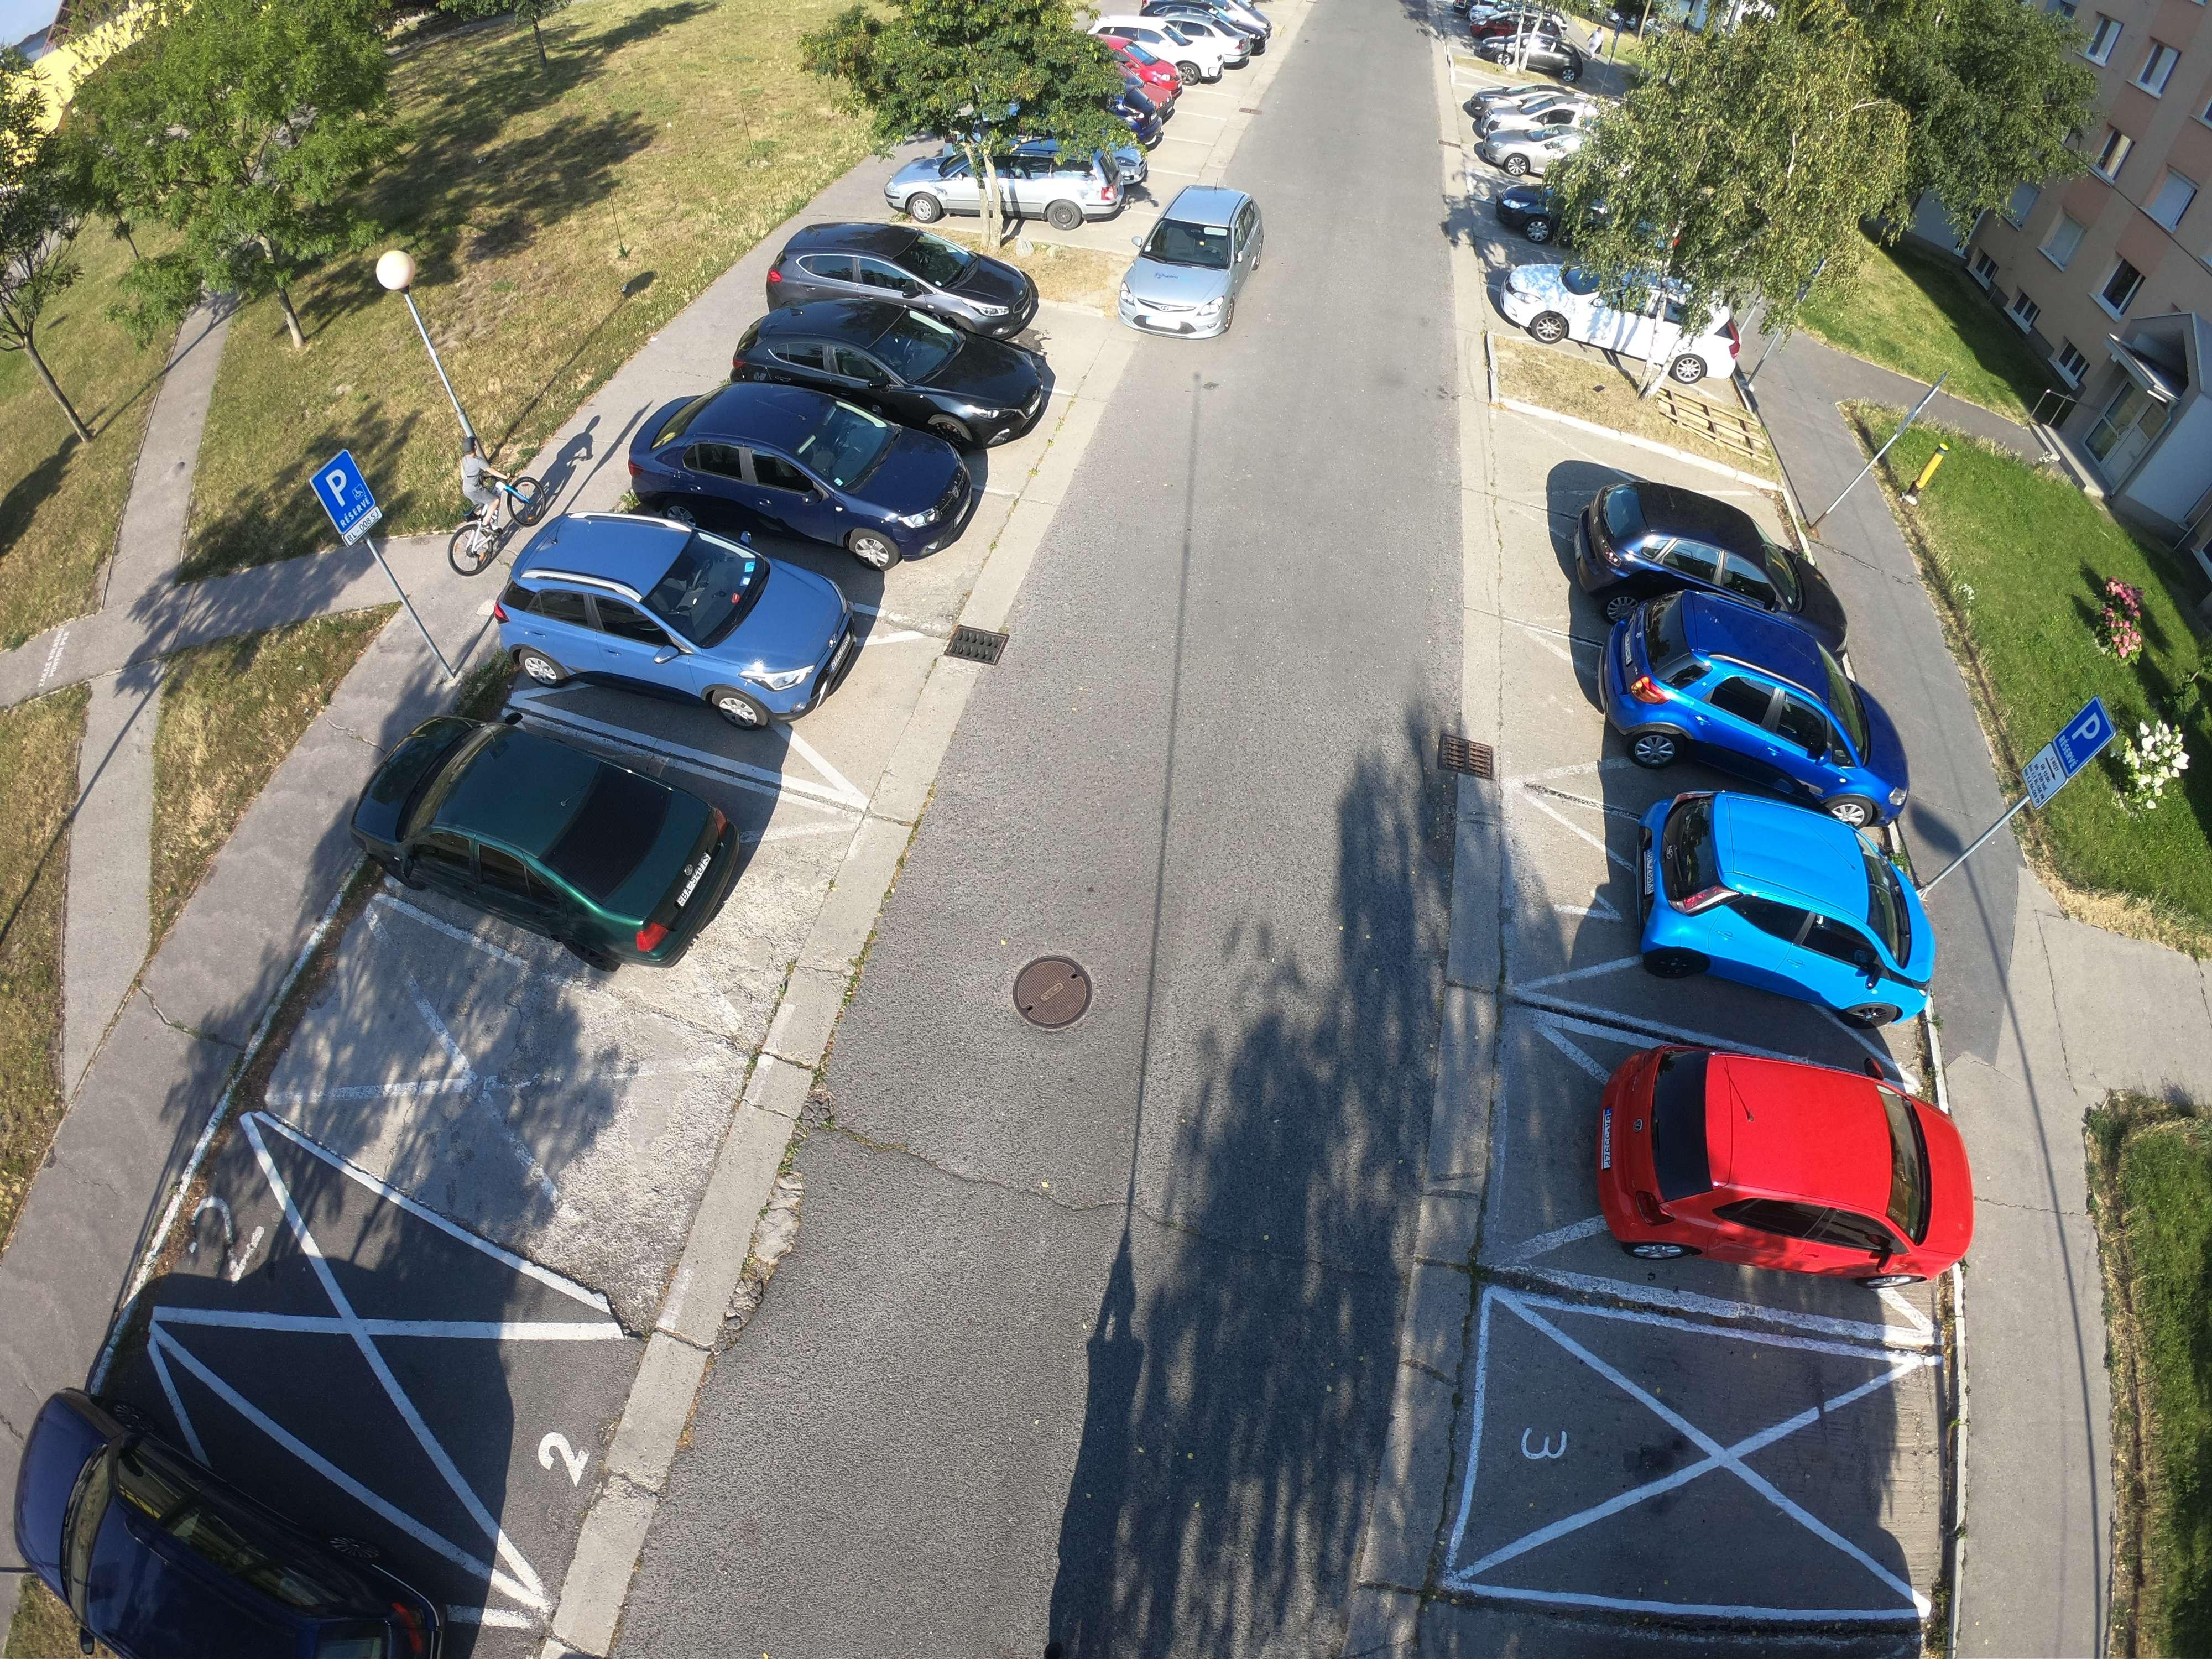empty: (68, 1298, 516, 1654), (357, 709, 766, 951), (1576, 584, 1925, 838), (486, 507, 833, 699), (1625, 774, 1916, 981), (615, 387, 975, 549), (1484, 251, 1761, 396), (735, 301, 1019, 429), (1554, 484, 1817, 617), (765, 228, 1021, 329), (1101, 186, 1261, 343), (902, 136, 1116, 232), (1454, 84, 1613, 188), (1103, 10, 1249, 82)
occupied: (219, 1265, 587, 1438), (1548, 1387, 1893, 1556), (307, 1011, 617, 1182)
